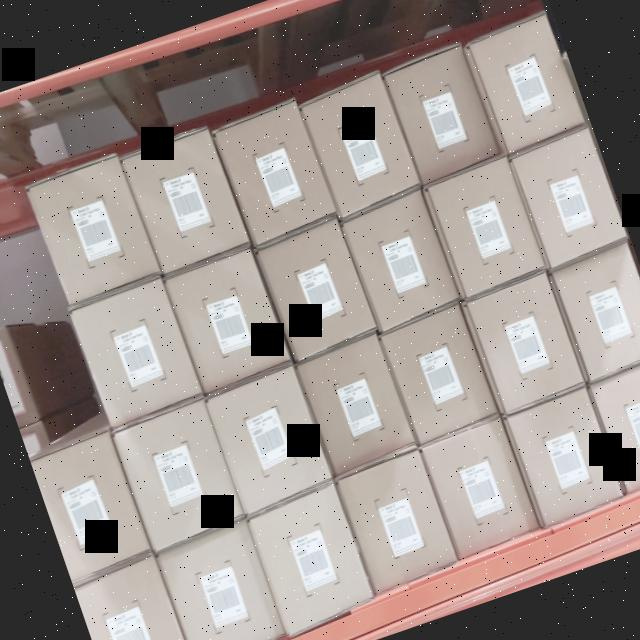box: (113, 398, 244, 546), (28, 156, 156, 303), (72, 280, 202, 423), (206, 367, 331, 509), (29, 432, 150, 576), (125, 130, 246, 272), (165, 250, 288, 388), (214, 103, 334, 243), (248, 491, 372, 626), (337, 452, 457, 590), (465, 274, 583, 411), (302, 78, 419, 214), (382, 306, 497, 443), (426, 162, 544, 294), (297, 337, 413, 471), (258, 225, 376, 356), (469, 17, 583, 152), (505, 392, 622, 522), (421, 422, 537, 553), (385, 46, 497, 180), (512, 132, 626, 263), (343, 196, 458, 324), (157, 526, 285, 640), (549, 244, 640, 379), (74, 559, 195, 640), (588, 359, 640, 487)
